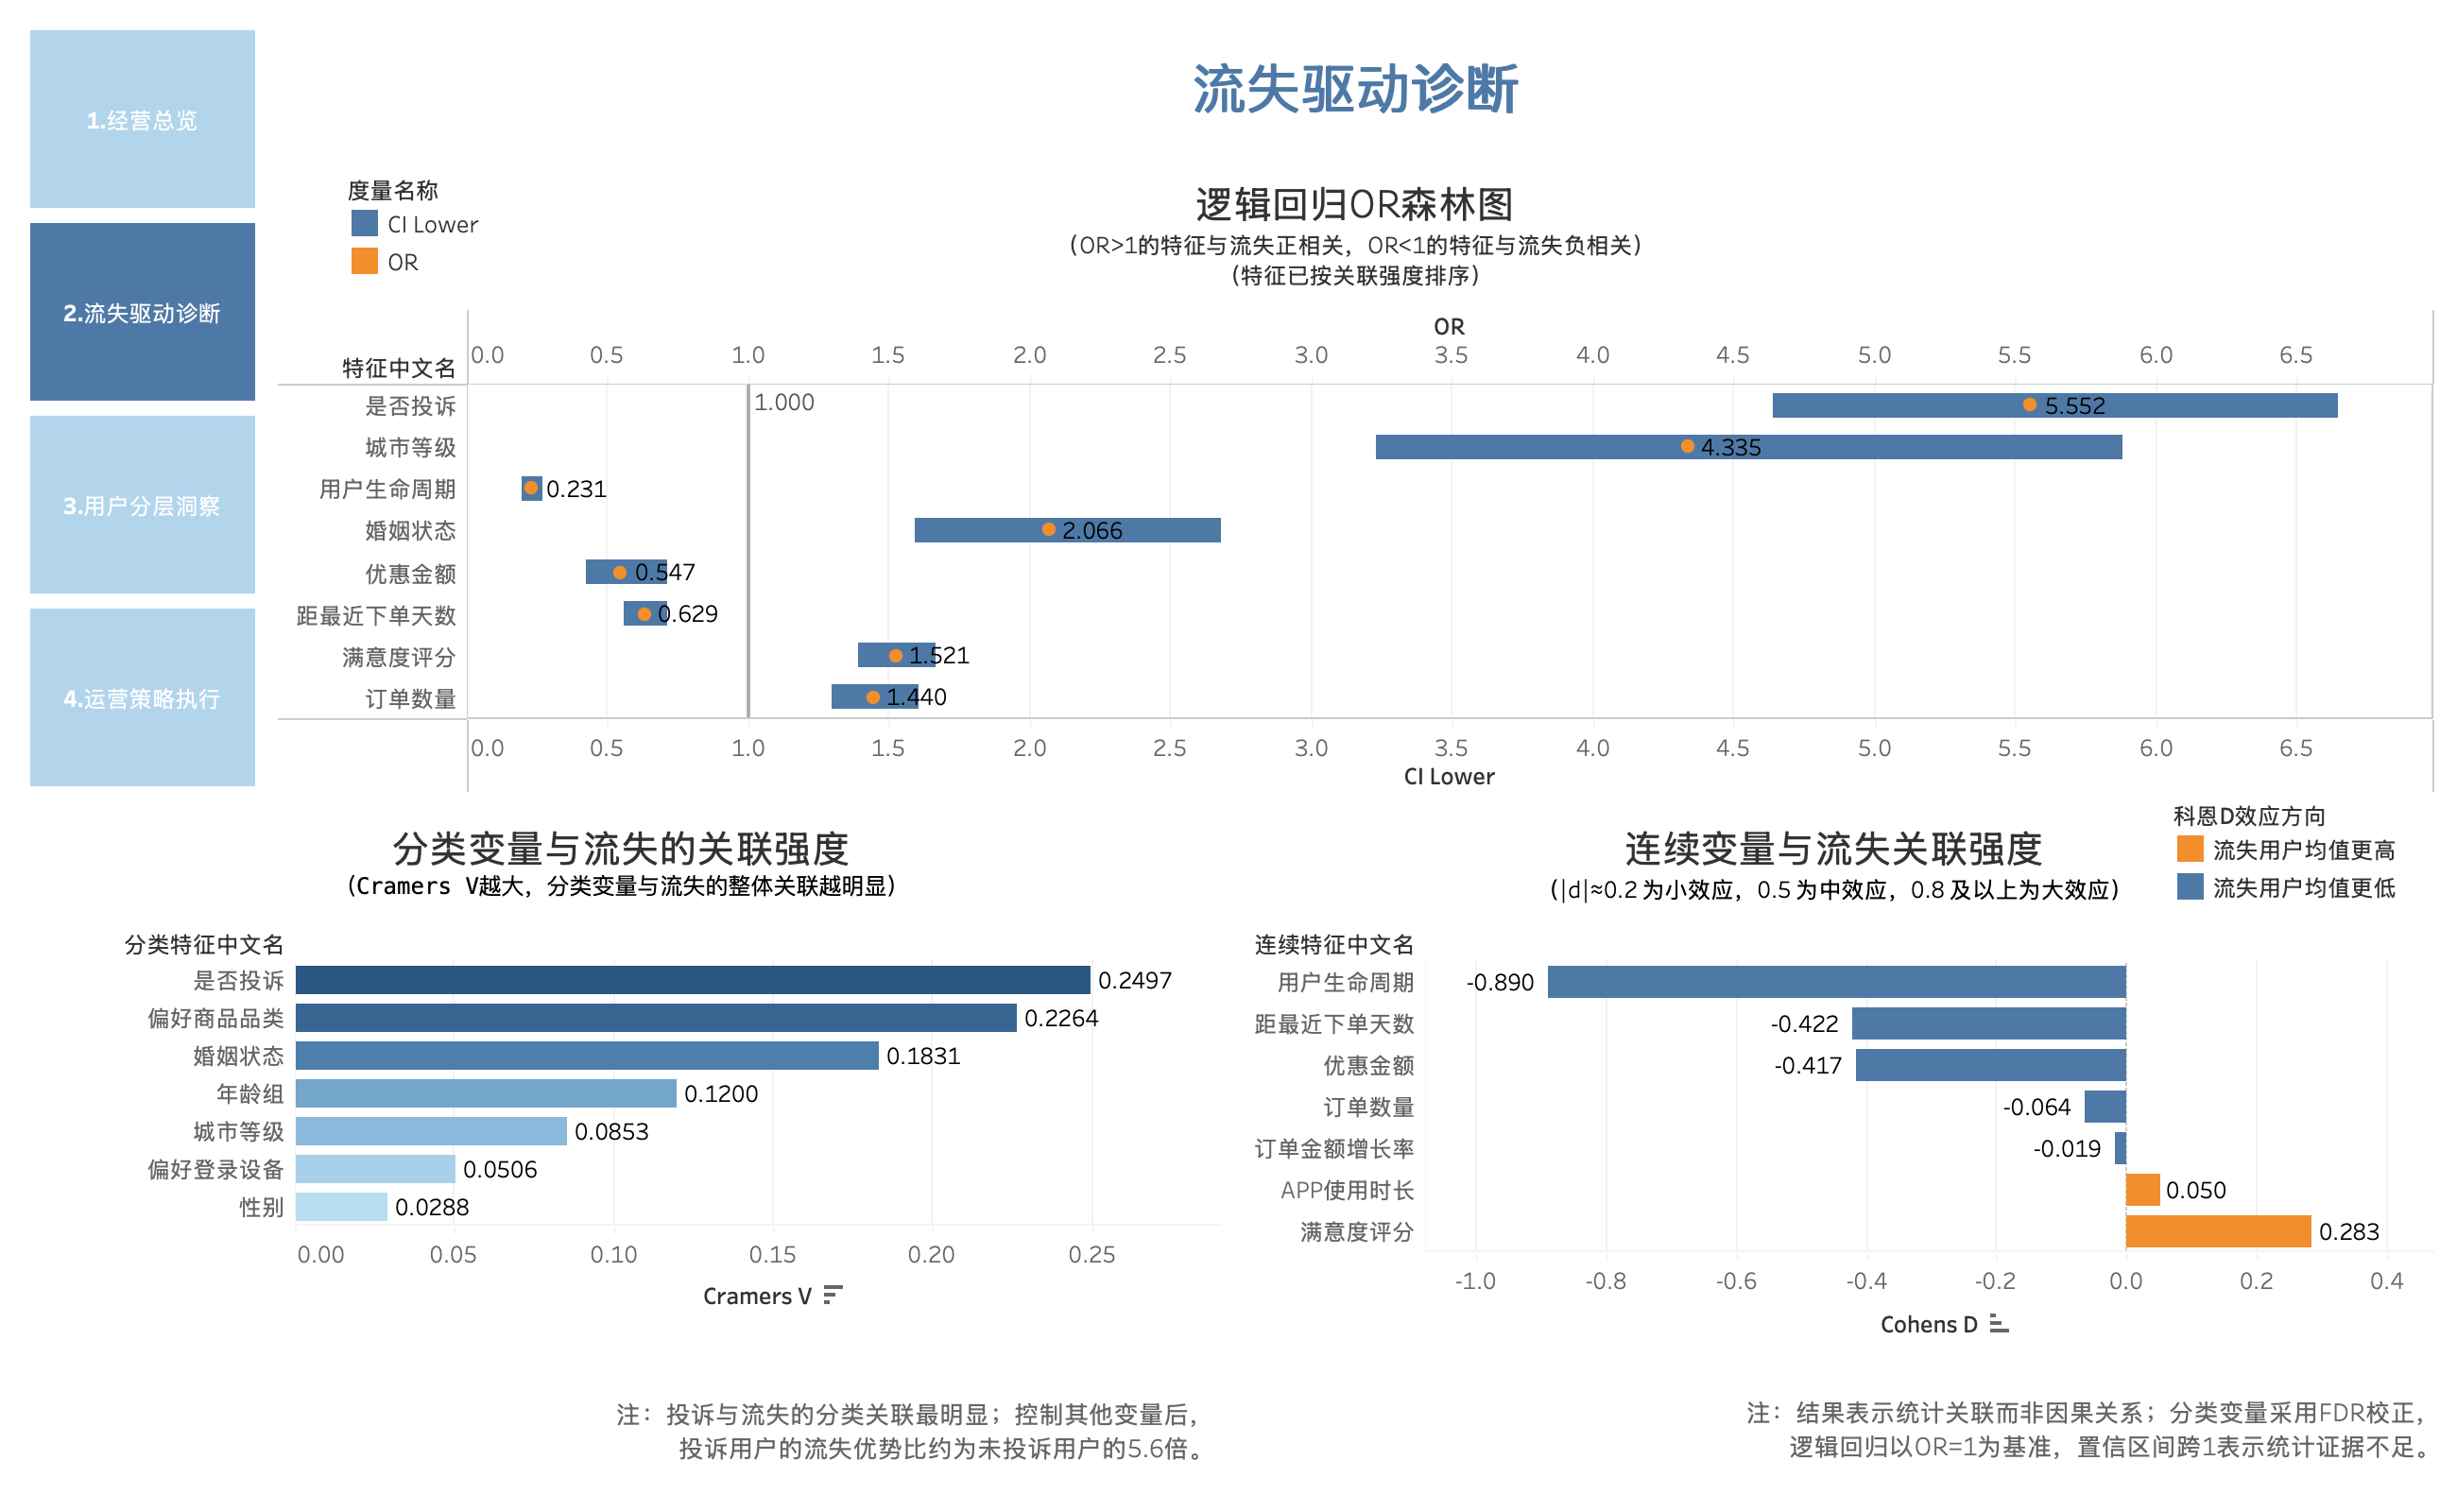

What the dashboard file says about the page in this screenshot:
{"tool":"tableau","page":{"name":"DB2 流失驱动诊断","canvas":[1300,800],"ordinal":1},"visuals":[{"type":"title","box":[143,8,1149,75]},{"type":"dashboard-object","box":[12,12,127,102]},{"type":"worksheet","title":"2.3逻辑回归 OR森林图","mark":"GanttBar","rows":["Calculation_0426849382449167"],"cols":["CI_Lower","OR"],"box":[143,83,1149,341]},{"type":"legend","title":"2.3逻辑回归 OR森林图","param":"[federated.1i9ec7u14rx8ir1ct17s81au2457].[:Measure Names]","box":[183,90,140,58]},{"type":"dashboard-object","box":[12,114,127,102]},{"type":"dashboard-object","box":[12,216,127,102]},{"type":"dashboard-object","box":[12,318,127,102]},{"type":"legend","title":"2.2连续变量与流失关联强度","param":"[federated.0d7jr9x1bx4rr4148x4a51eoysg2].[none:Calculation_0426849365135371:nk]","box":[1149,421,140,58]},{"type":"worksheet","title":"2.1分类变量与流失关联强度","mark":"Bar","rows":["Calculation_0426849363656713"],"cols":["CramersV"],"box":[8,424,642,368]},{"type":"worksheet","title":"2.2连续变量与流失关联强度","mark":"Automatic","rows":["Calculation_0426849364918282"],"cols":["CohensD"],"box":[650,424,642,368]},{"type":"text","box":[11,718,634,77]},{"type":"text","box":[660,725,634,61]}]}

Visuals, with their boxes in screenshot pixels (x1, y1, x2, y2), scaled from the page's 1300x800 canvas onto the 2457x1512 screenshot:
title: (x1=270, y1=15, x2=2442, y2=157)
dashboard-object: (x1=23, y1=23, x2=263, y2=215)
"2.3逻辑回归 OR森林图" worksheet (GanttBar marks): (x1=270, y1=157, x2=2442, y2=801)
"2.3逻辑回归 OR森林图" legend: (x1=346, y1=170, x2=610, y2=280)
dashboard-object: (x1=23, y1=215, x2=263, y2=408)
dashboard-object: (x1=23, y1=408, x2=263, y2=601)
dashboard-object: (x1=23, y1=601, x2=263, y2=794)
"2.2连续变量与流失关联强度" legend: (x1=2172, y1=796, x2=2436, y2=905)
"2.1分类变量与流失关联强度" worksheet (Bar marks): (x1=15, y1=801, x2=1228, y2=1497)
"2.2连续变量与流失关联强度" worksheet: (x1=1228, y1=801, x2=2442, y2=1497)
text: (x1=21, y1=1357, x2=1219, y2=1503)
text: (x1=1247, y1=1370, x2=2446, y2=1486)
